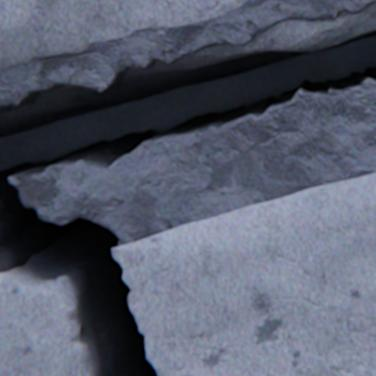brick: (0, 0, 247, 70)
broken_brick: (113, 172, 375, 375), (0, 271, 94, 375)
crack: (0, 1, 375, 375)
